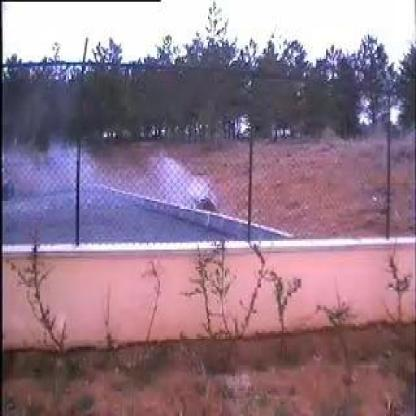-: (43, 132, 221, 246)
